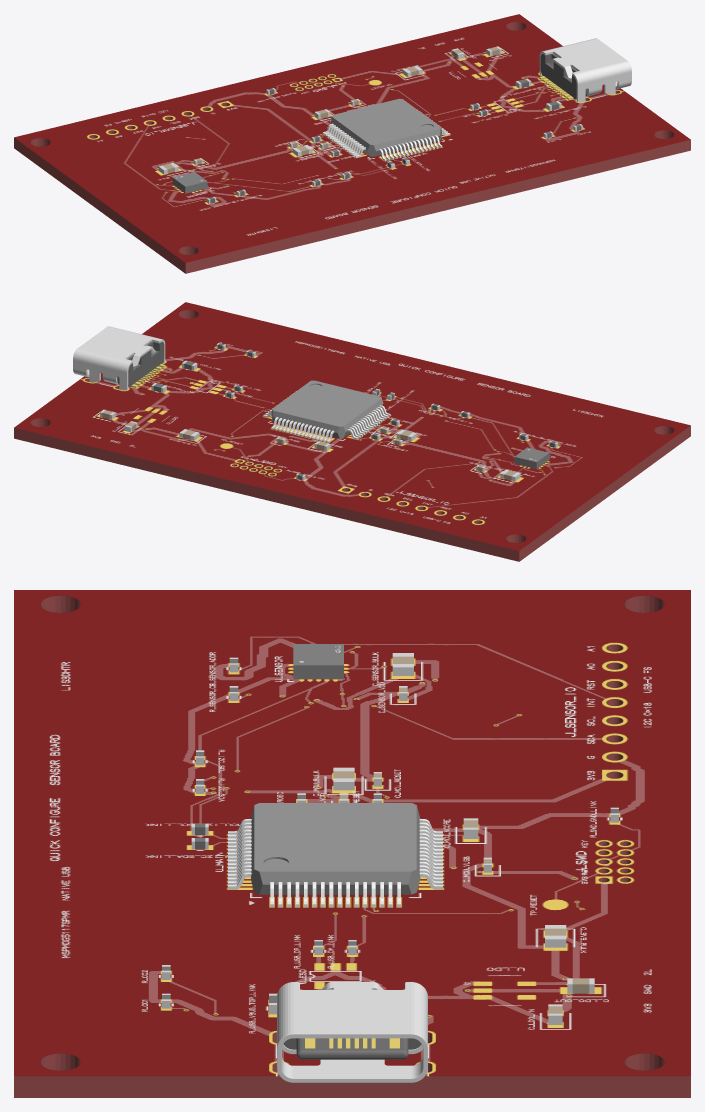
3 views of the same model, one above another, from view 1: azimuth 30°, elevation 25°; view 2: azimuth 150°, elevation 25°; view 3: azimuth 270°, elevation 25° (orthographic). The views are drawn at different scales.
Visible parts, largest first — view 1: Box0, U_MAIN, J_USB, U_SENSOR; view 2: Box0, U_MAIN, J_USB, U_SENSOR; view 3: Box0, U_MAIN, J_USB, U_SENSOR.
Boxes of the visible parts, x1,y1,x2,y2 form: Box0: (14, 14, 690, 273); U_MAIN: (322, 98, 450, 161); J_USB: (539, 38, 631, 102); U_SENSOR: (172, 172, 207, 193); Box0: (14, 302, 690, 561); U_MAIN: (263, 380, 390, 442); J_USB: (73, 326, 165, 390); U_SENSOR: (514, 447, 549, 469); Box0: (14, 590, 690, 1097); U_MAIN: (228, 803, 442, 907); J_USB: (277, 982, 427, 1082); U_SENSOR: (293, 644, 343, 679).
Bounding box in the file's own units: 69.04 × 4.65 × 40.
15 materials, 2 textured.
